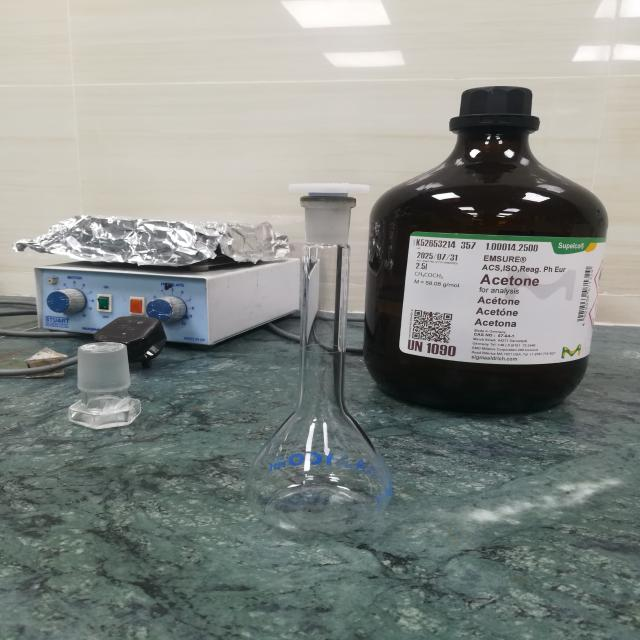Volumetric_Flask: (245, 150, 446, 554)
